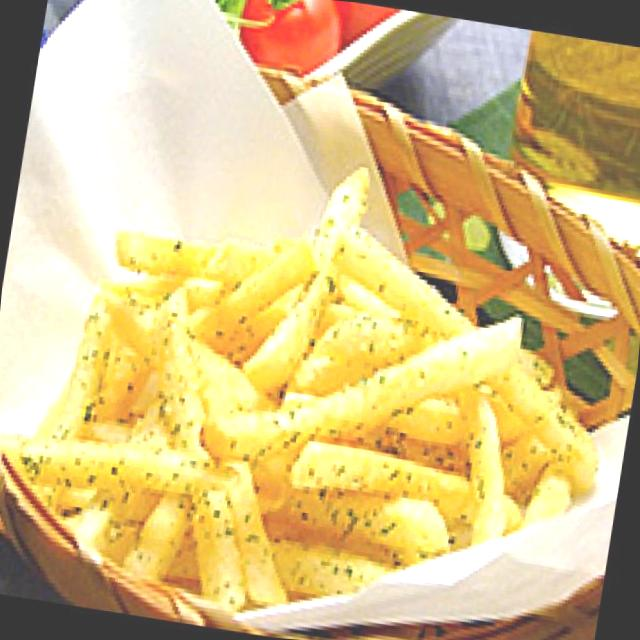French Fries: (0, 205, 579, 640)
